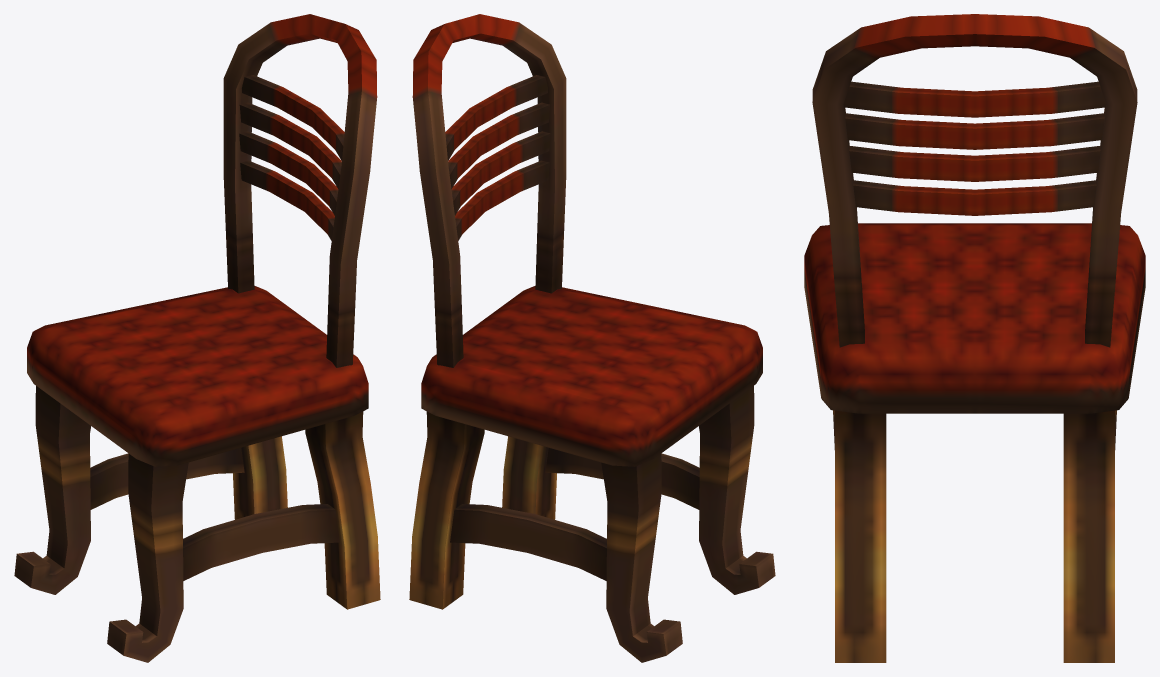
The model's file is Chair_03.gltf.
3 views of the same model, side by side, from view 1: azimuth 30°, elevation 25°; view 2: azimuth 150°, elevation 25°; view 3: azimuth 270°, elevation 25° (orthographic). The views are drawn at different scales.
Visible parts, largest first — view 1: Chair_03; view 2: Chair_03; view 3: Chair_03.
Boxes of the visible parts, x1,y1,x2,y2 form: Chair_03: (14,14,380,662); Chair_03: (409,14,775,662); Chair_03: (804,14,1145,662).
Size of the model in its own units: 23.06 by 40.9 by 18.84.
Materials: 1 (1 with a texture image).
